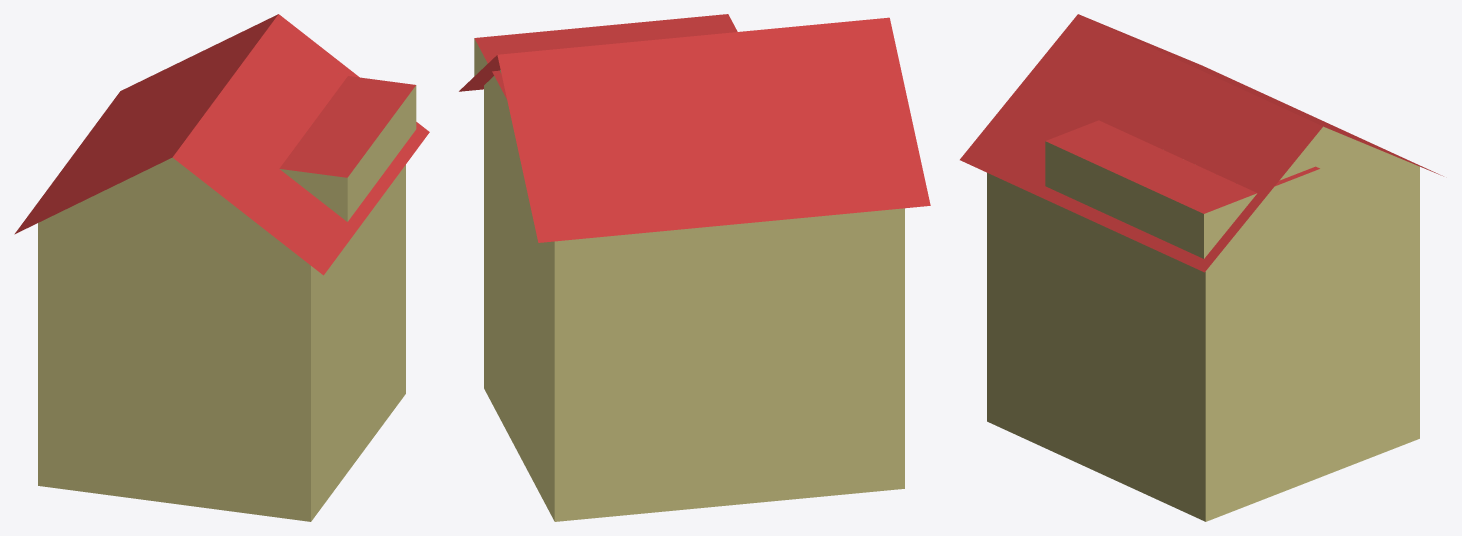
3 renders of one model, left to right at view 1: azimuth 30°, elevation 25°; view 2: azimuth 150°, elevation 25°; view 3: azimuth 270°, elevation 25°, orthographic. The views are drawn at different scales.
Parts seen in each view (by area): view 1: group_7, group_3, group_4, group_5, group_6; view 2: group_7, group_3, group_4, group_6; view 3: group_7, group_3, group_5, group_4, group_6.
Boxes of the visible parts, x1,y1,x2,y2 form: group_7: (38, 157, 405, 521); group_3: (14, 14, 427, 275); group_4: (279, 76, 415, 177); group_5: (280, 85, 416, 221); group_6: (15, 17, 429, 274); group_7: (484, 70, 904, 521); group_3: (459, 17, 930, 242); group_4: (474, 14, 737, 98); group_6: (459, 18, 927, 241); group_7: (987, 126, 1419, 521); group_3: (960, 14, 1443, 271); group_5: (1045, 141, 1256, 258); group_4: (1045, 120, 1319, 213); group_6: (962, 20, 1435, 272).
Bounding box in the file's own units: 18.85 × 18.78 × 15.32.
